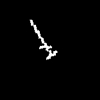double_crochet: (30, 20, 56, 58)
